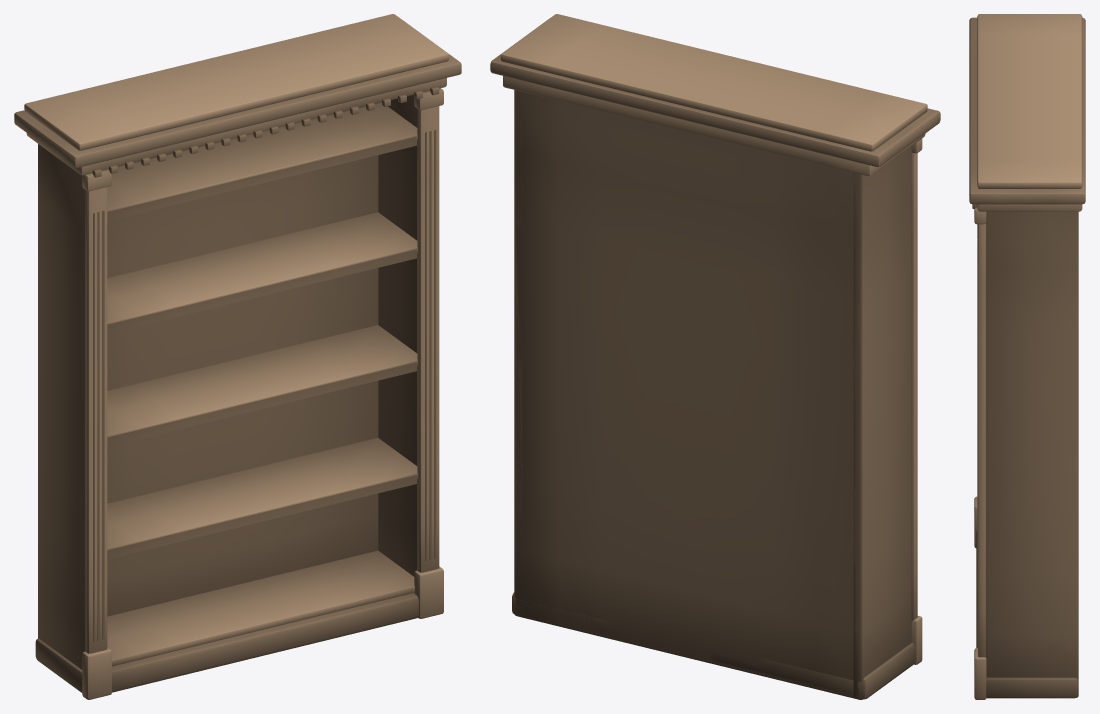
Rendered from obj_kit_bookcase.glb.
The picture shows the model from 3 angles, left to right: view 1: azimuth 30°, elevation 25°; view 2: azimuth 150°, elevation 25°; view 3: azimuth 270°, elevation 25°; orthographic projection. The views are drawn at different scales.
Parts seen in each view (by area): view 1: Cube, Cube.001, Cube.027, Cube.016, Cube.021, Cube.017, Cube.019, Cube.008, Cube.023, Cube.015, Cube.002, Cube.009 (+14 smaller); view 2: Cube, Cube.001, Cube.027, Cube.026, Cube.025, Cube.015, Cube.002, Cube.008; view 3: Cube.008, Cube.027, Cube.026, Cube.009, Cube.015, Cube.025, Cube.014, Cube.012.
Part boxes in pixels (box(x1,y1,x2,y2)): Cube: box(107, 155, 378, 616); Cube.001: box(38, 144, 85, 669); Cube.027: box(24, 14, 448, 150); Cube.016: box(107, 550, 414, 666); Cube.021: box(107, 212, 417, 324); Cube.017: box(107, 438, 417, 550); Cube.019: box(107, 325, 417, 437); Cube.008: box(378, 94, 417, 576); Cube.023: box(107, 102, 417, 211); Cube.015: box(35, 593, 418, 692); Cube.002: box(85, 187, 107, 653); Cube.009: box(417, 106, 439, 572); Cube: box(516, 90, 860, 699); Cube.001: box(853, 146, 911, 699); Cube.027: box(500, 14, 927, 151); Cube.026: box(490, 33, 940, 166); Cube.025: box(503, 76, 925, 176); Cube.015: box(512, 592, 915, 699); Cube.002: box(911, 152, 917, 620); Cube.008: box(514, 90, 522, 615); Cube.008: box(986, 211, 1078, 697); Cube.027: box(977, 14, 1082, 188); Cube.026: box(969, 17, 1085, 204); Cube.009: box(978, 223, 986, 657); Cube.015: box(976, 530, 1078, 698); Cube.025: box(977, 204, 1082, 211); Cube.014: box(974, 648, 986, 699); Cube.012: box(977, 243, 977, 644).
Bounding box in the file's own units: 1.8 × 2.47 × 0.5.
